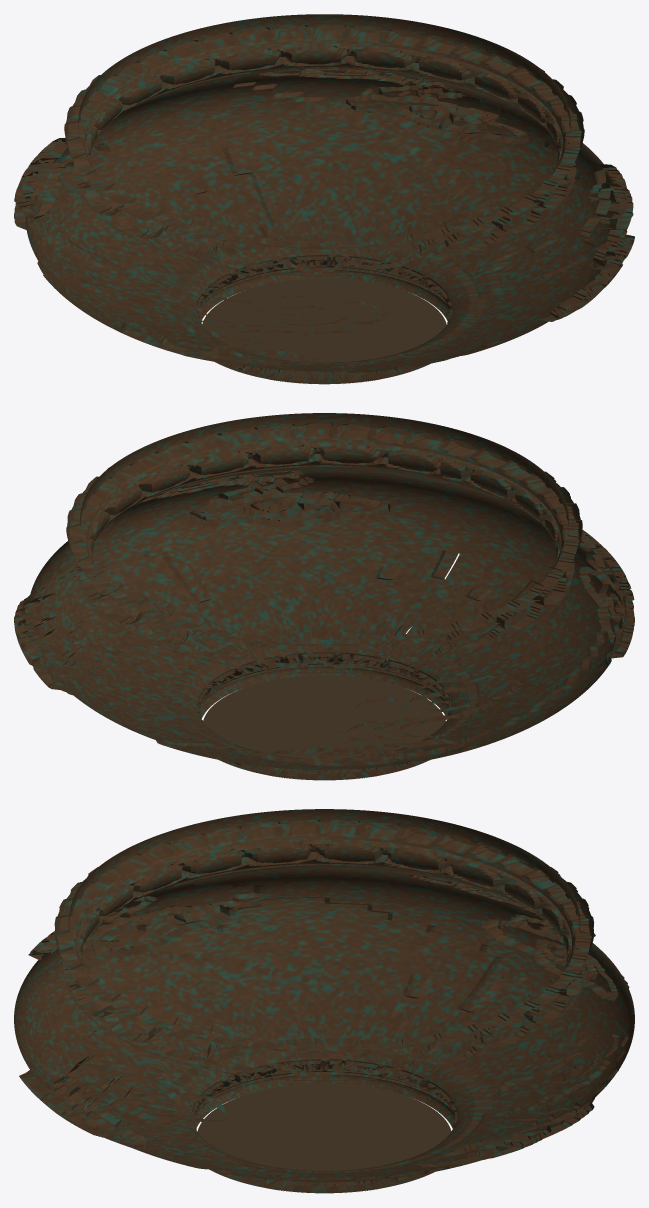
File: gui_lite.glb
The picture shows the model from 3 angles, top to bottom: view 1: azimuth 30°, elevation 25°; view 2: azimuth 150°, elevation 25°; view 3: azimuth 270°, elevation 25°; orthographic projection. The views are drawn at different scales.
Visible parts, largest first — view 1: geometry_0; view 2: geometry_0; view 3: geometry_0.
Part boxes in pixels (x1=…): geometry_0: x1=14, y1=14, x2=634, y2=384; geometry_0: x1=14, y1=413, x2=634, y2=780; geometry_0: x1=14, y1=809, x2=634, y2=1193.
Bounding box in the file's own units: 1.58 × 0.62 × 1.57.
Materials: 1 (1 with a texture image).
